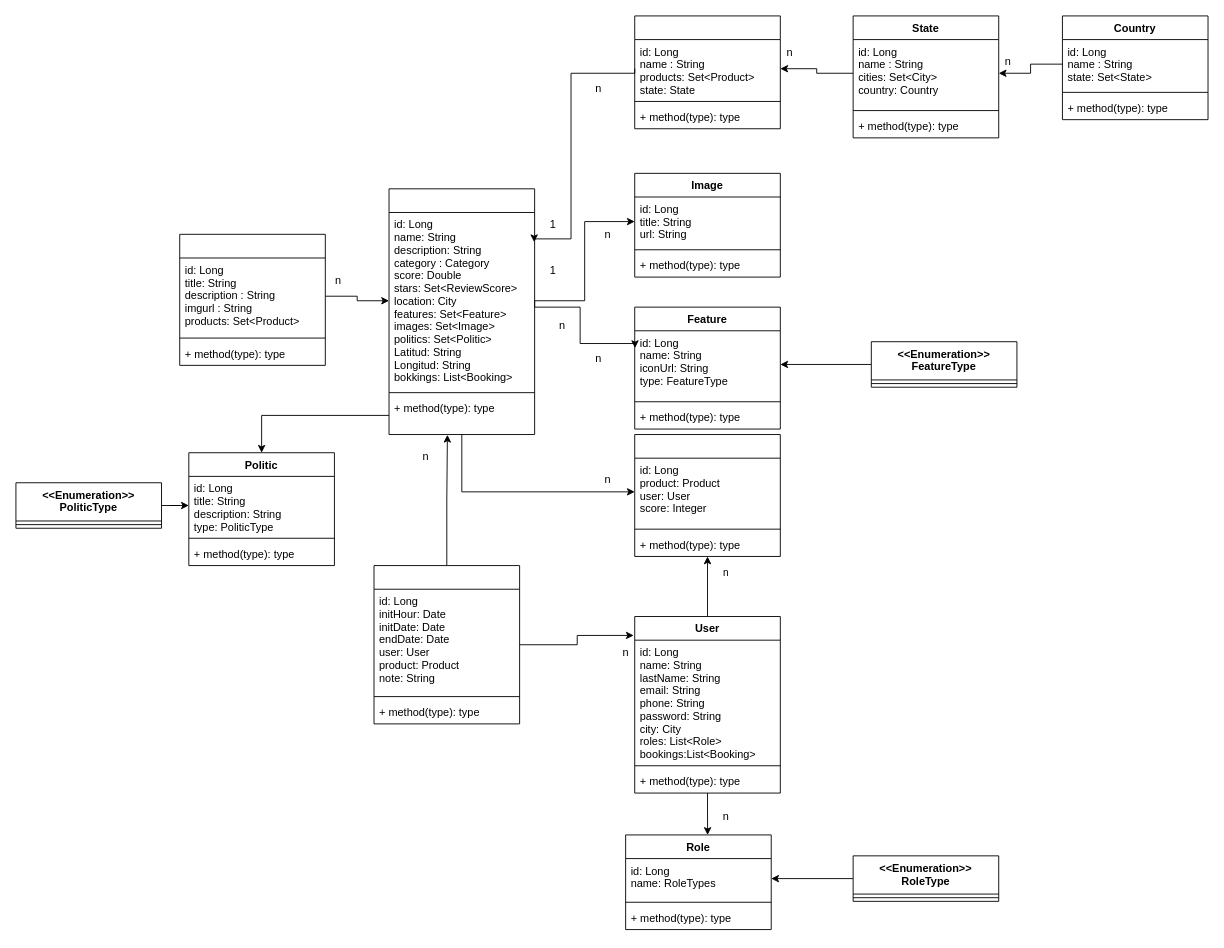
Some shapes in this 1224 by 948 pixel diagram are drawn without their labels. The shapes that lost their labels are listed below. From the top down, each one's box as (x1, y1, x2, y2) in pixels, then its label:
(634, 15, 780, 129): City
(179, 233, 325, 365): Category
(388, 188, 535, 435): Product
(634, 434, 780, 556): ReviewScore
(373, 565, 520, 724): Booking
